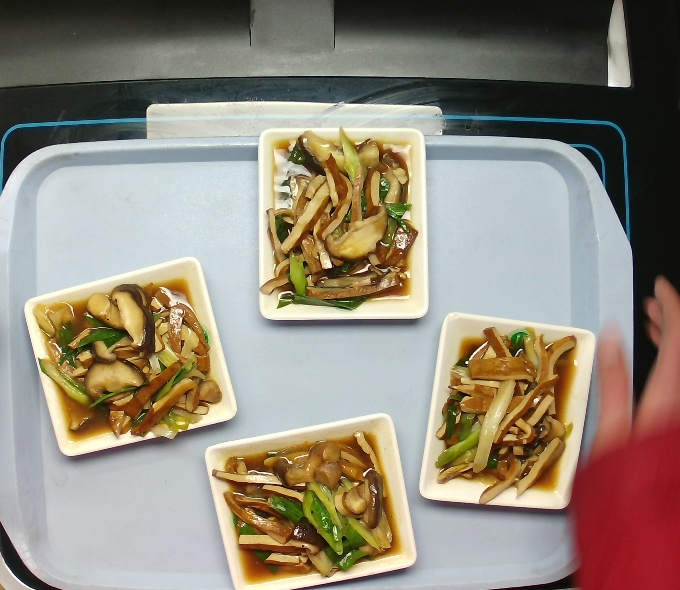wcq-XiangGuChaoXiangGan: (29, 280, 223, 451), (256, 127, 421, 318), (206, 427, 398, 582), (430, 320, 584, 509)
